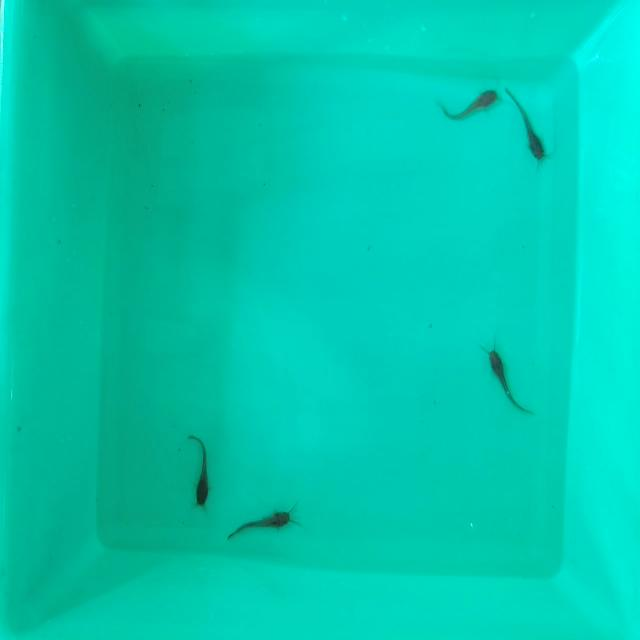lele: (224, 499, 296, 542), (485, 346, 525, 409), (505, 104, 547, 158), (443, 85, 499, 124), (187, 431, 208, 506)
